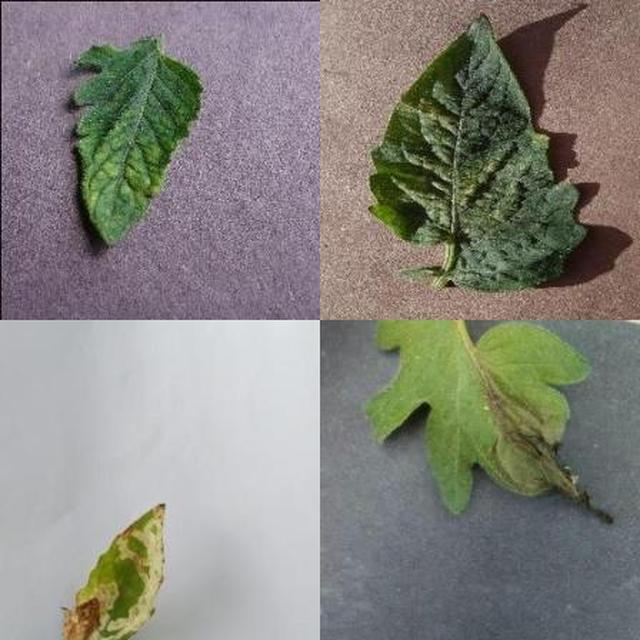Mosaic Virus Leaf: (155, 205, 640, 640)
